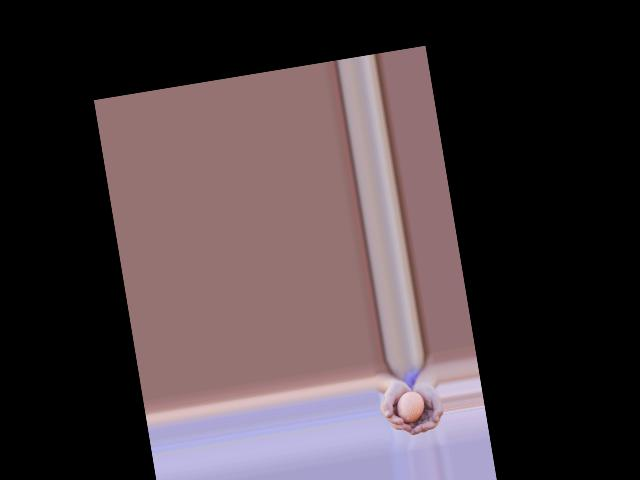egg: (394, 389, 427, 424)
